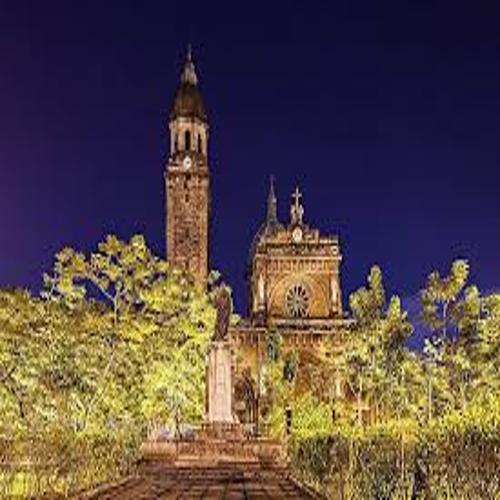Manila Cathedral Church: (112, 36, 369, 459)
